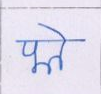o_matra: (54, 24, 68, 71)
